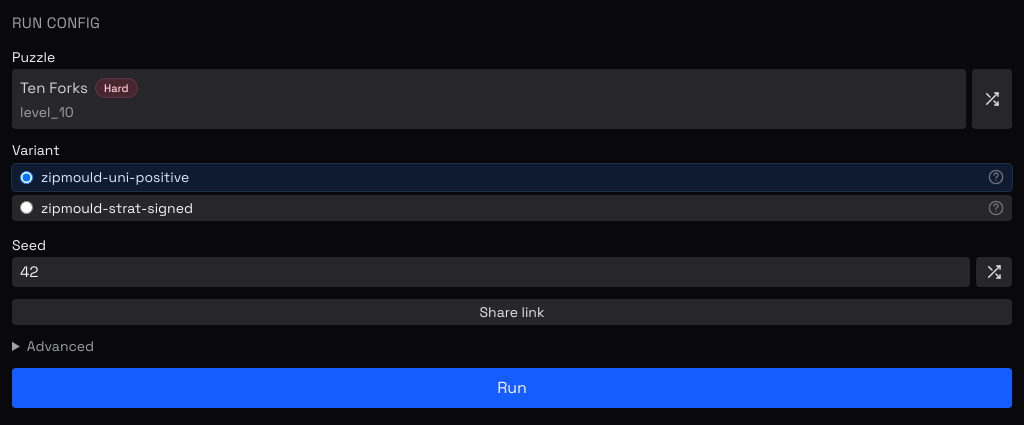
Scenario: ConfigPanel › randomizes the seed from the seed selector icon button
Expected: the 4th icon is shown, top-left (986, 264), bottom-right (1002, 280)
Focus the button with test id "random-seed": {"x": 994, "y": 272} top-left (976, 257), bottom-right (1012, 287)
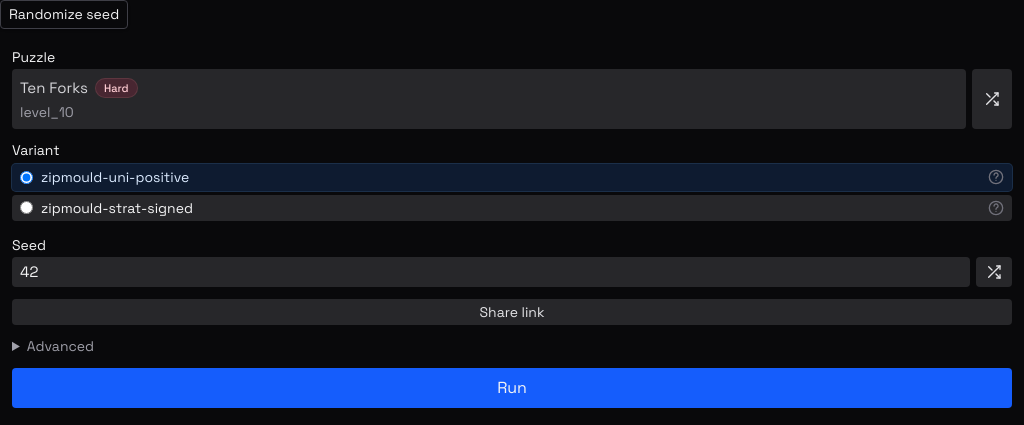
Now the text "Randomize seed" is shown, box top-left (0, 0), bottom-right (128, 29)
Click the button with test id "random-seed": {"x": 994, "y": 272} top-left (976, 257), bottom-right (1012, 287)
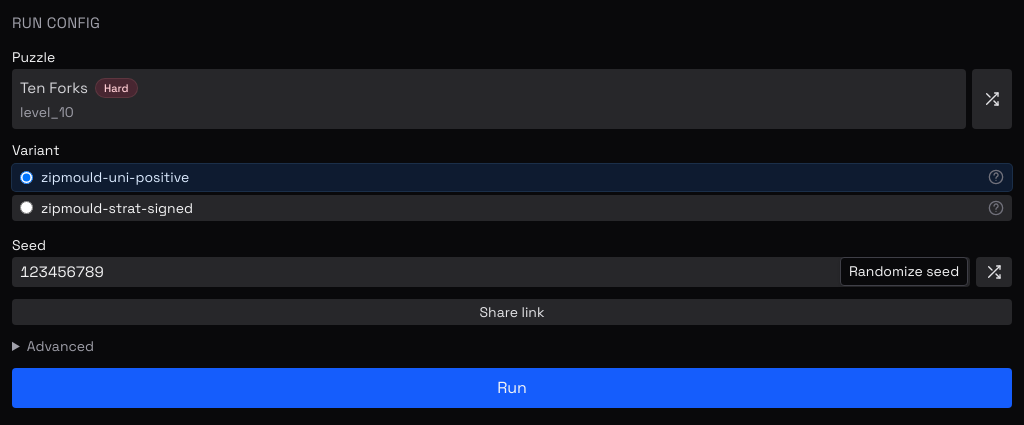
Now the number field with test id "seed-input" holds "123456789", box top-left (12, 257), bottom-right (970, 287)
